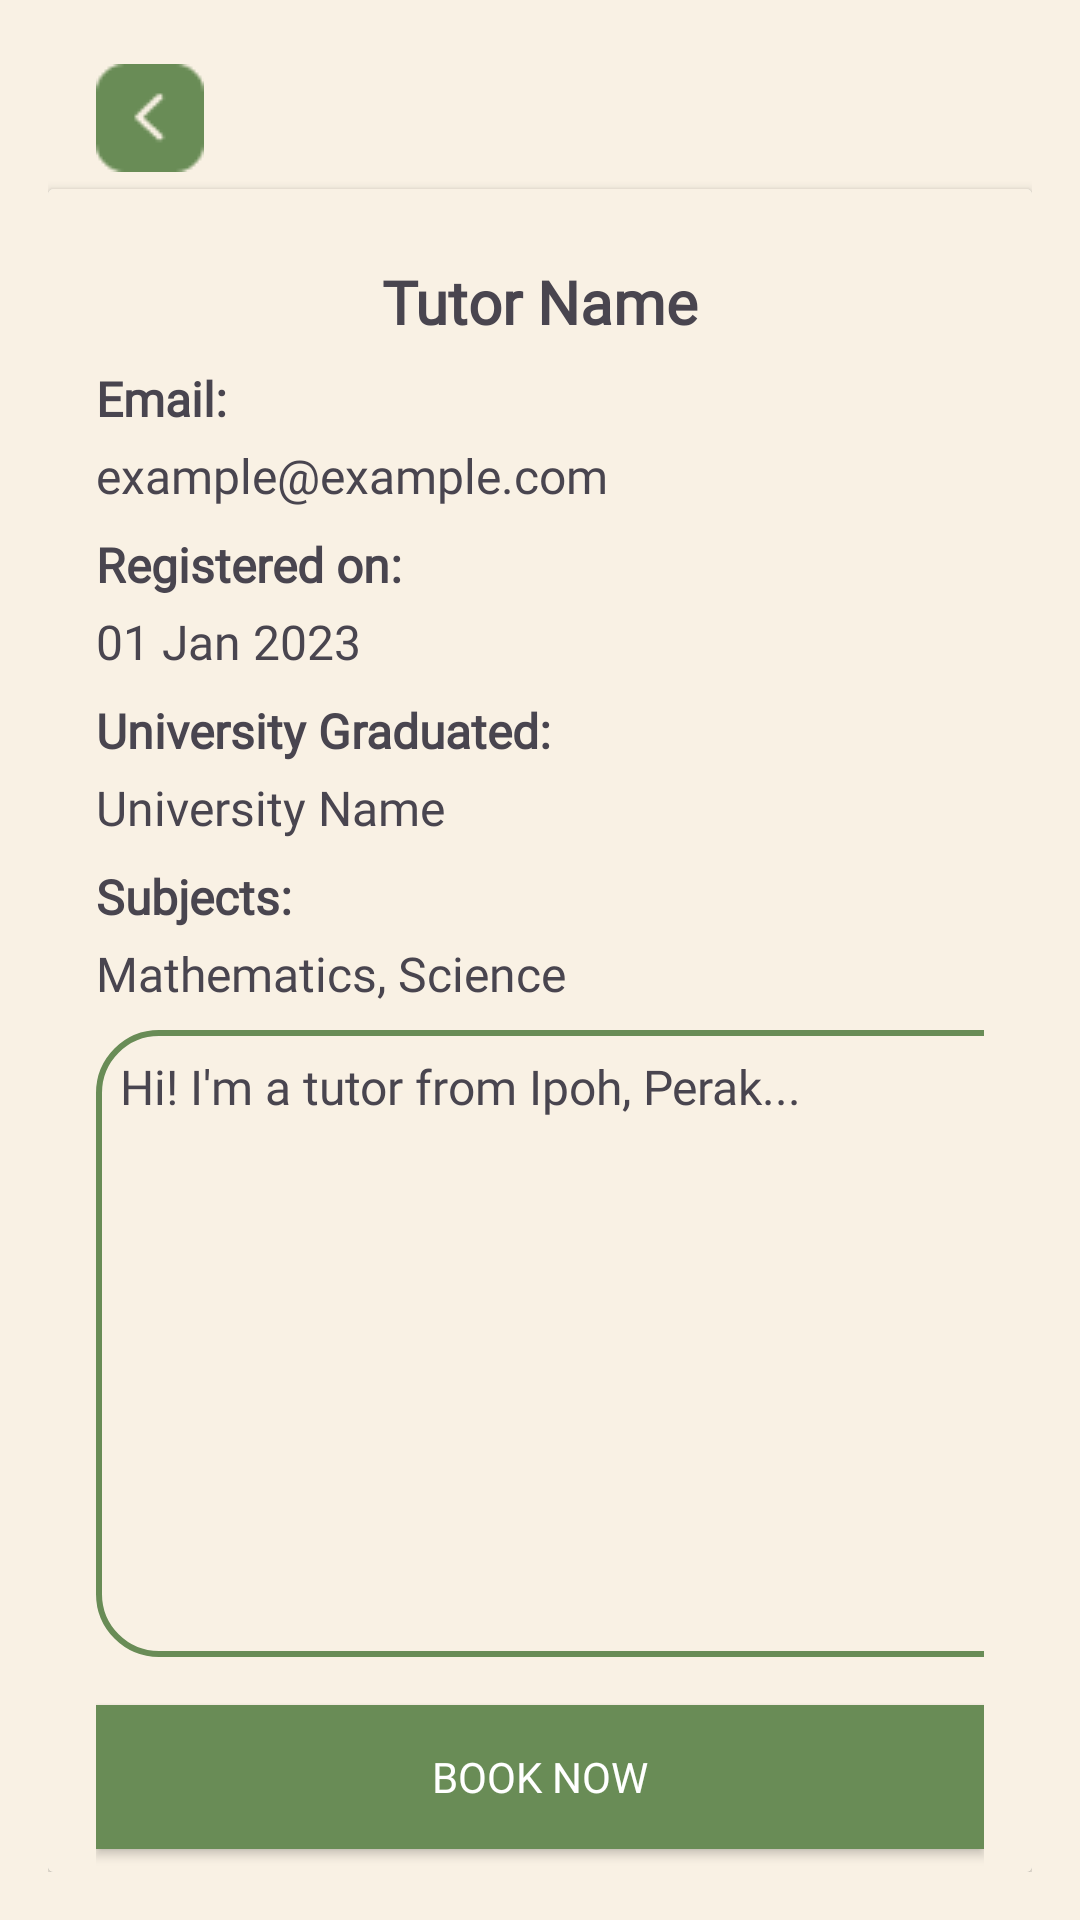

Named icons in this screenshot (1080 × 1920) and their bounding boxes, rect(x1, y1, x2, y2):
Back Button: rect(96, 64, 204, 172)
